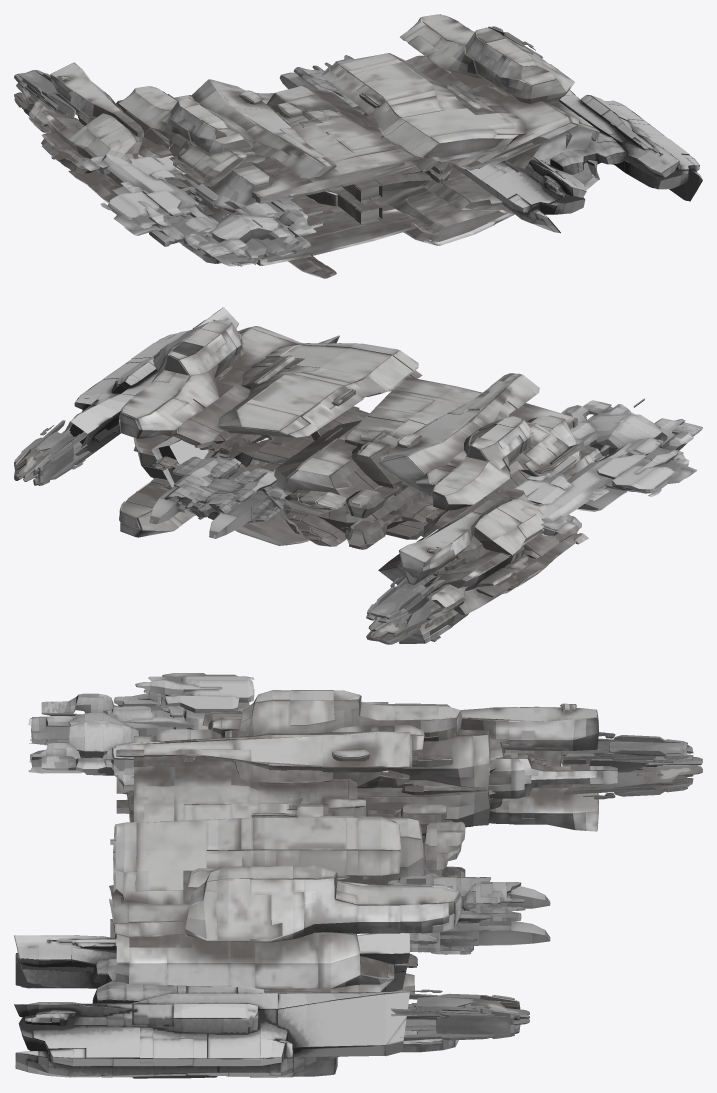
Rendered from MOTHERSHIP_006.fbx.
The picture shows the model from 3 angles, top to bottom: view 1: azimuth 30°, elevation 25°; view 2: azimuth 150°, elevation 25°; view 3: azimuth 270°, elevation 25°; orthographic projection. The views are drawn at different scales.
Visible parts, largest first — view 1: MOTHERSHIP_006; view 2: MOTHERSHIP_006; view 3: MOTHERSHIP_006.
Part boxes in pixels (x1,y1,x2,y2): MOTHERSHIP_006: (14, 14, 702, 278); MOTHERSHIP_006: (14, 307, 702, 644); MOTHERSHIP_006: (14, 673, 702, 1078).
Size of the model in its own units: 126 by 33.95 by 107.
